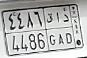A: (56, 11, 64, 45)
D: (63, 13, 73, 44)
G: (46, 12, 55, 46)
